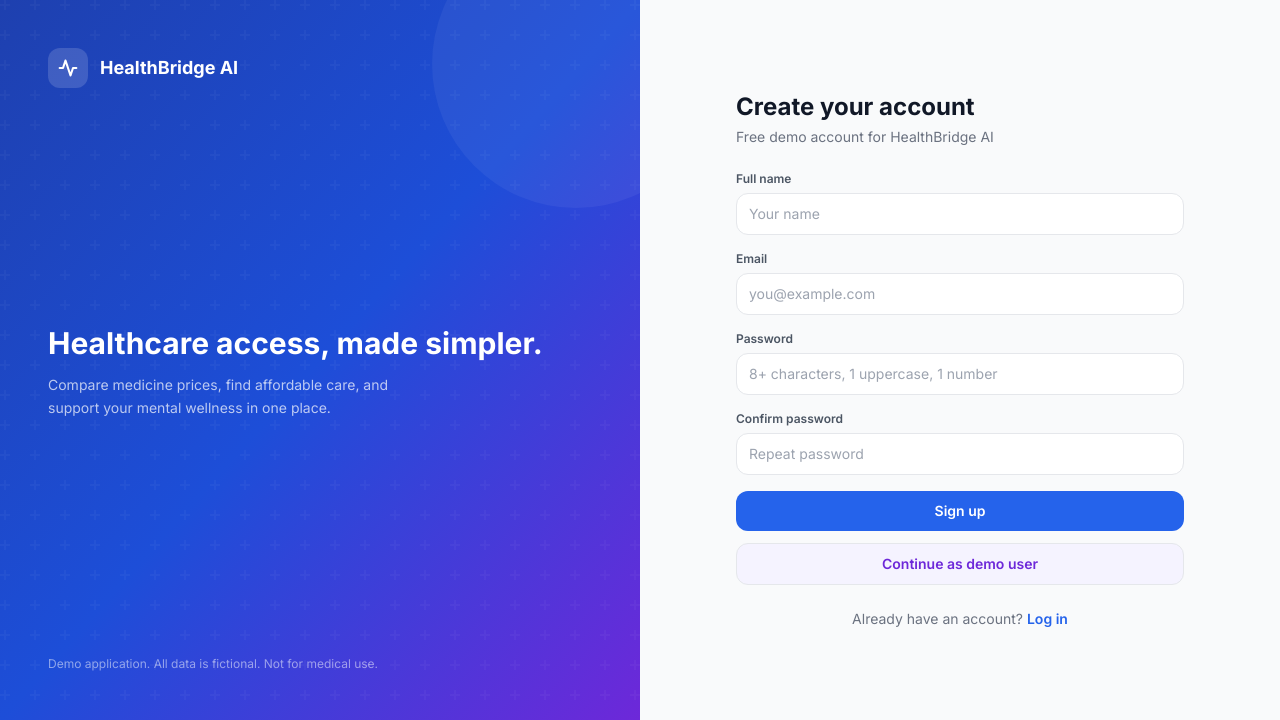
Test: Login and sign up › sign up reports an unreachable backend instead of failing silently
Type "Test User" into the field labelled "Full name".
click(960, 214); type("Test User")  # box [736,193,1184,235]
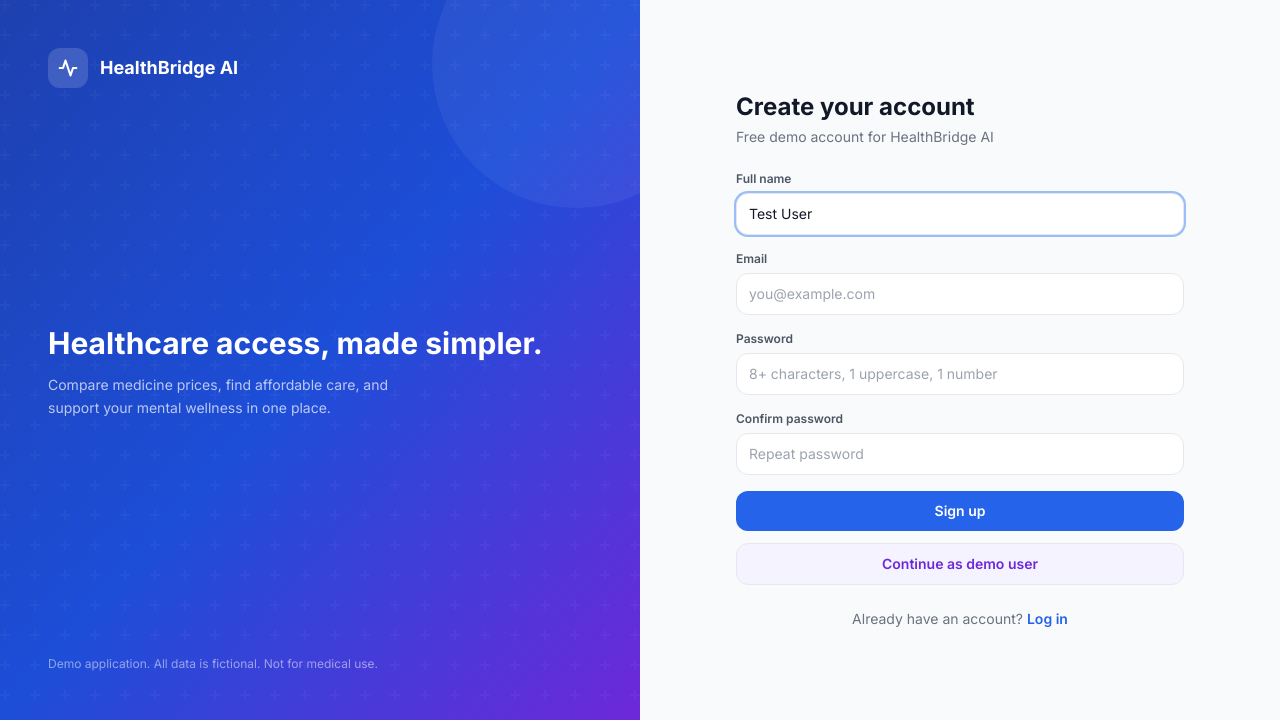
Type "test@example.com" into the field labelled "Email".
click(960, 294); type("test@example.com")  # box [736,273,1184,315]
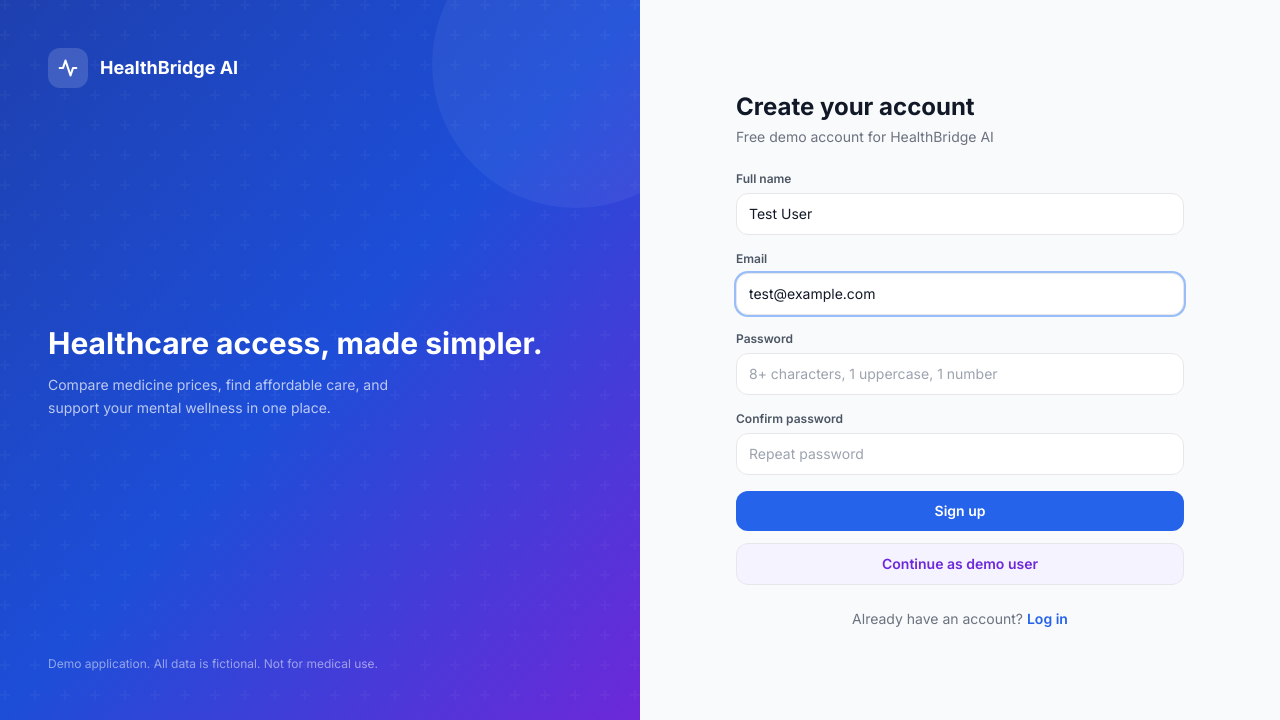
Type "Strong1pass" into the password field labelled "Password".
click(960, 374); type("Strong1pass")  # box [736,353,1184,395]
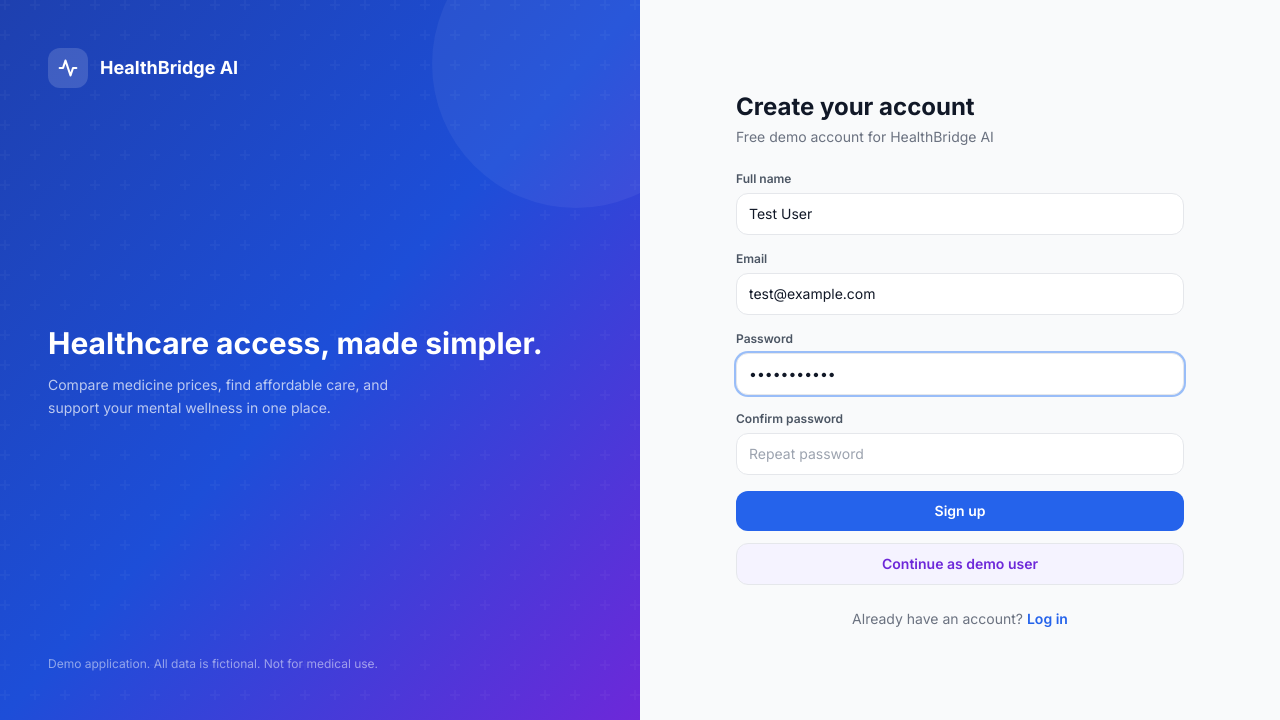
Type "Strong1pass" into the password field labelled "Confirm password".
click(960, 454); type("Strong1pass")  # box [736,433,1184,475]
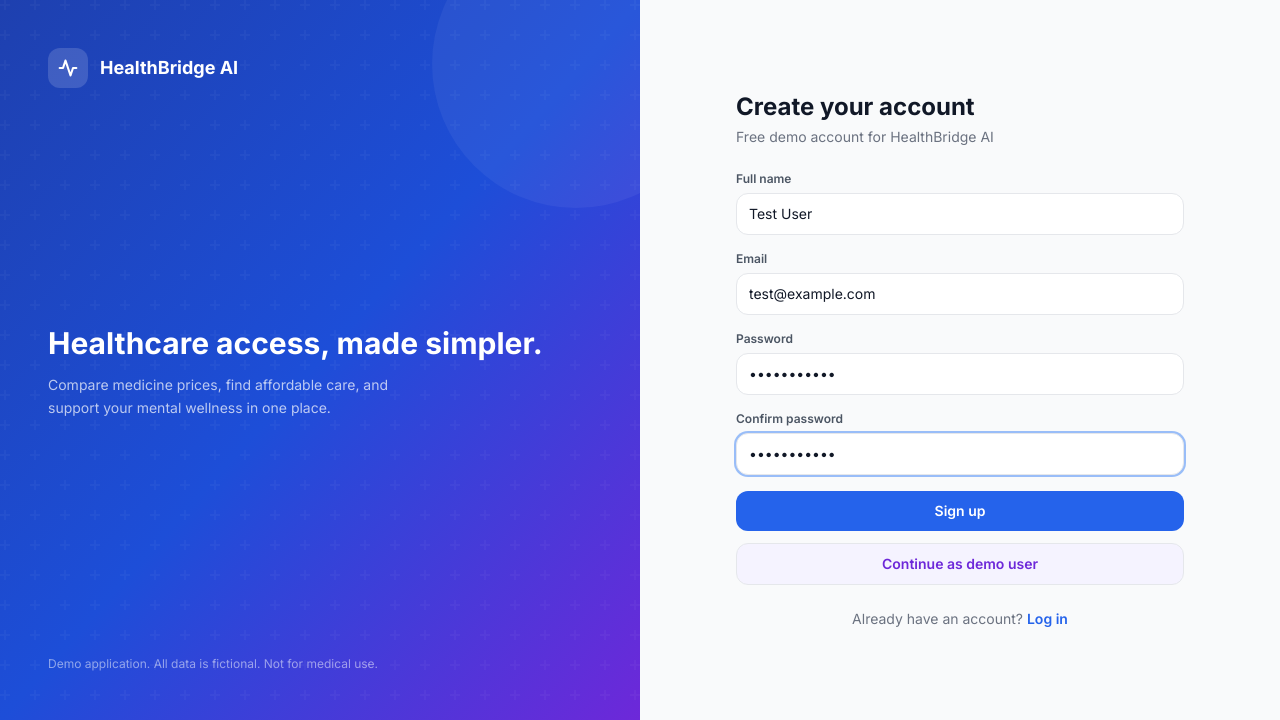
Click the button "Sign up".
click(960, 511)  # box [736,491,1184,531]
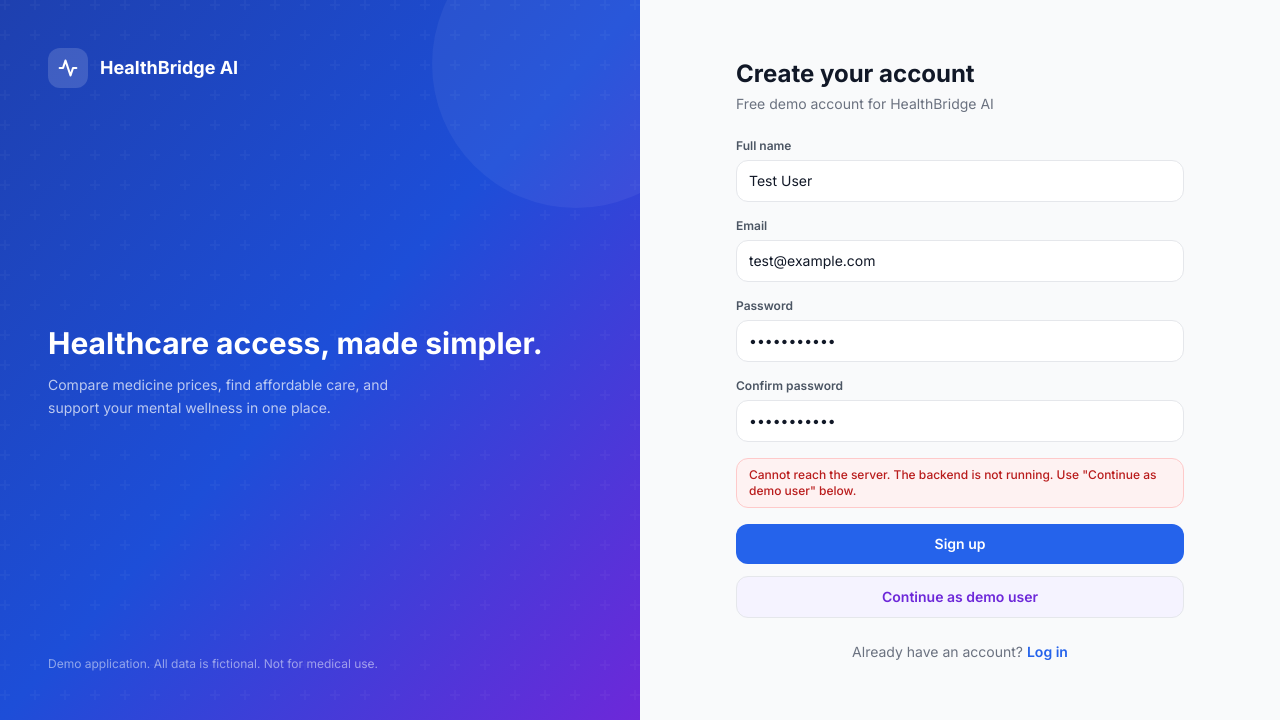
expect the message is shown: met, box [736,458,1184,508]
